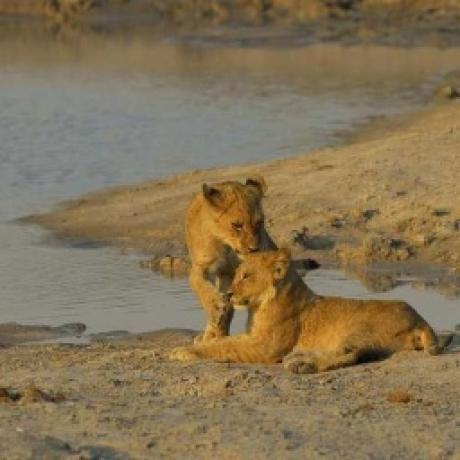Lion: (173, 248, 451, 375), (187, 174, 285, 347)
